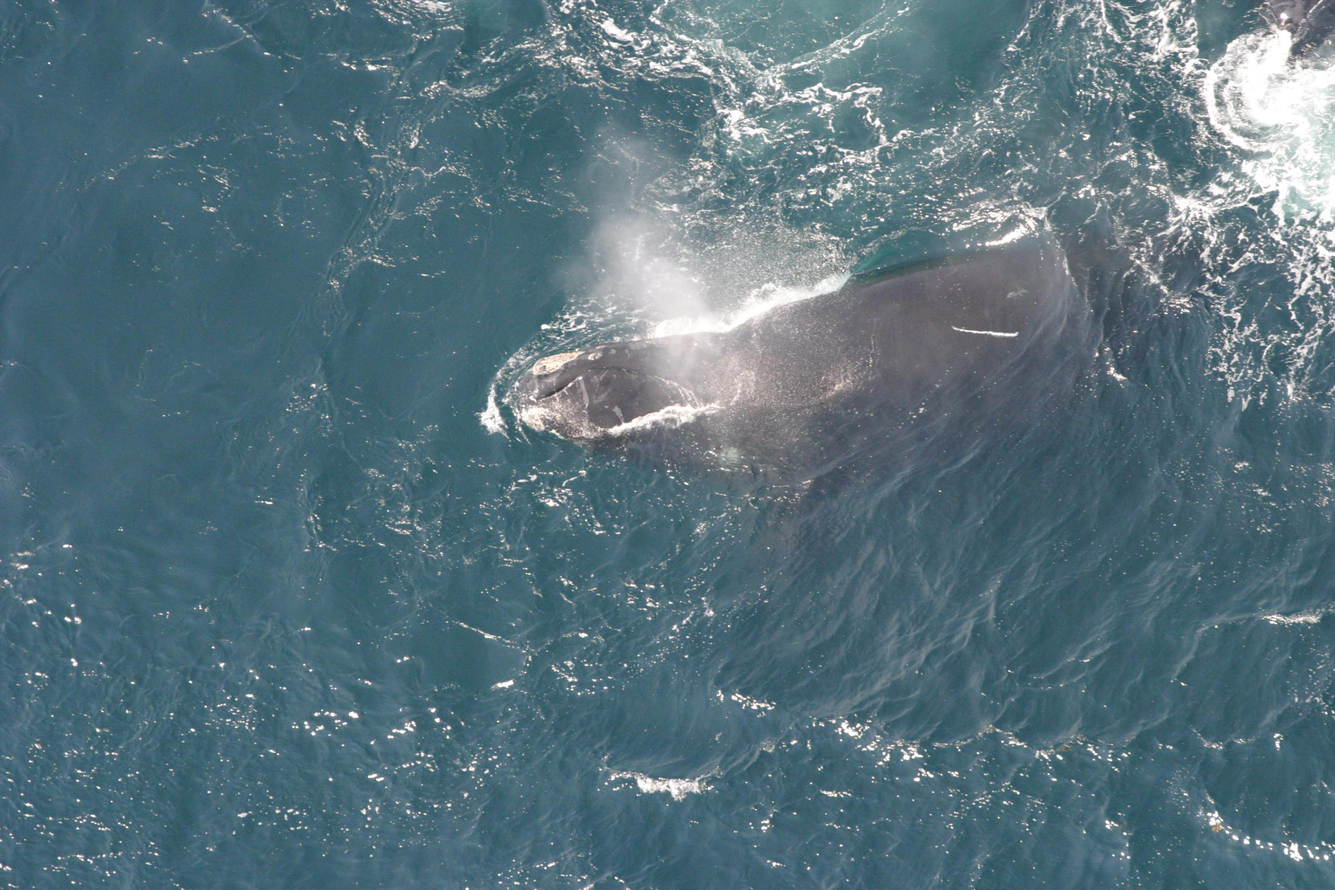whale: (499, 206, 1201, 520)
